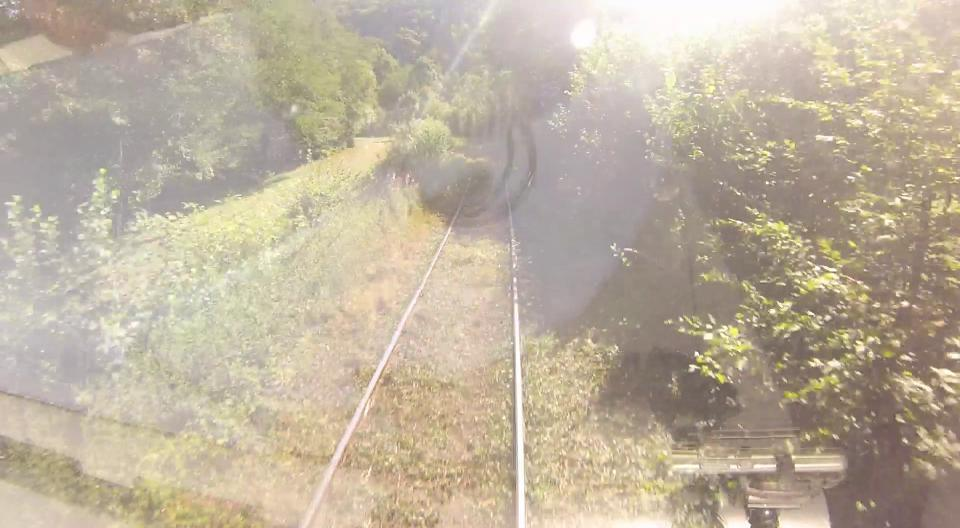Plant: (106, 206, 446, 528), (312, 213, 514, 528), (518, 240, 677, 528)
